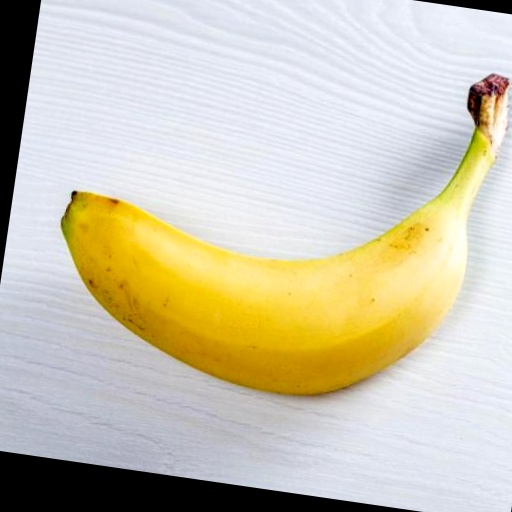fruit: (61, 75, 507, 394)
